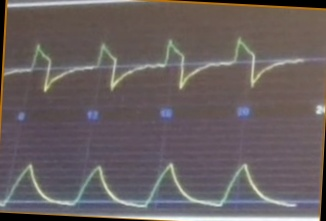Normal Flow: (5, 31, 310, 96)
Normal Volume: (1, 150, 298, 211)
